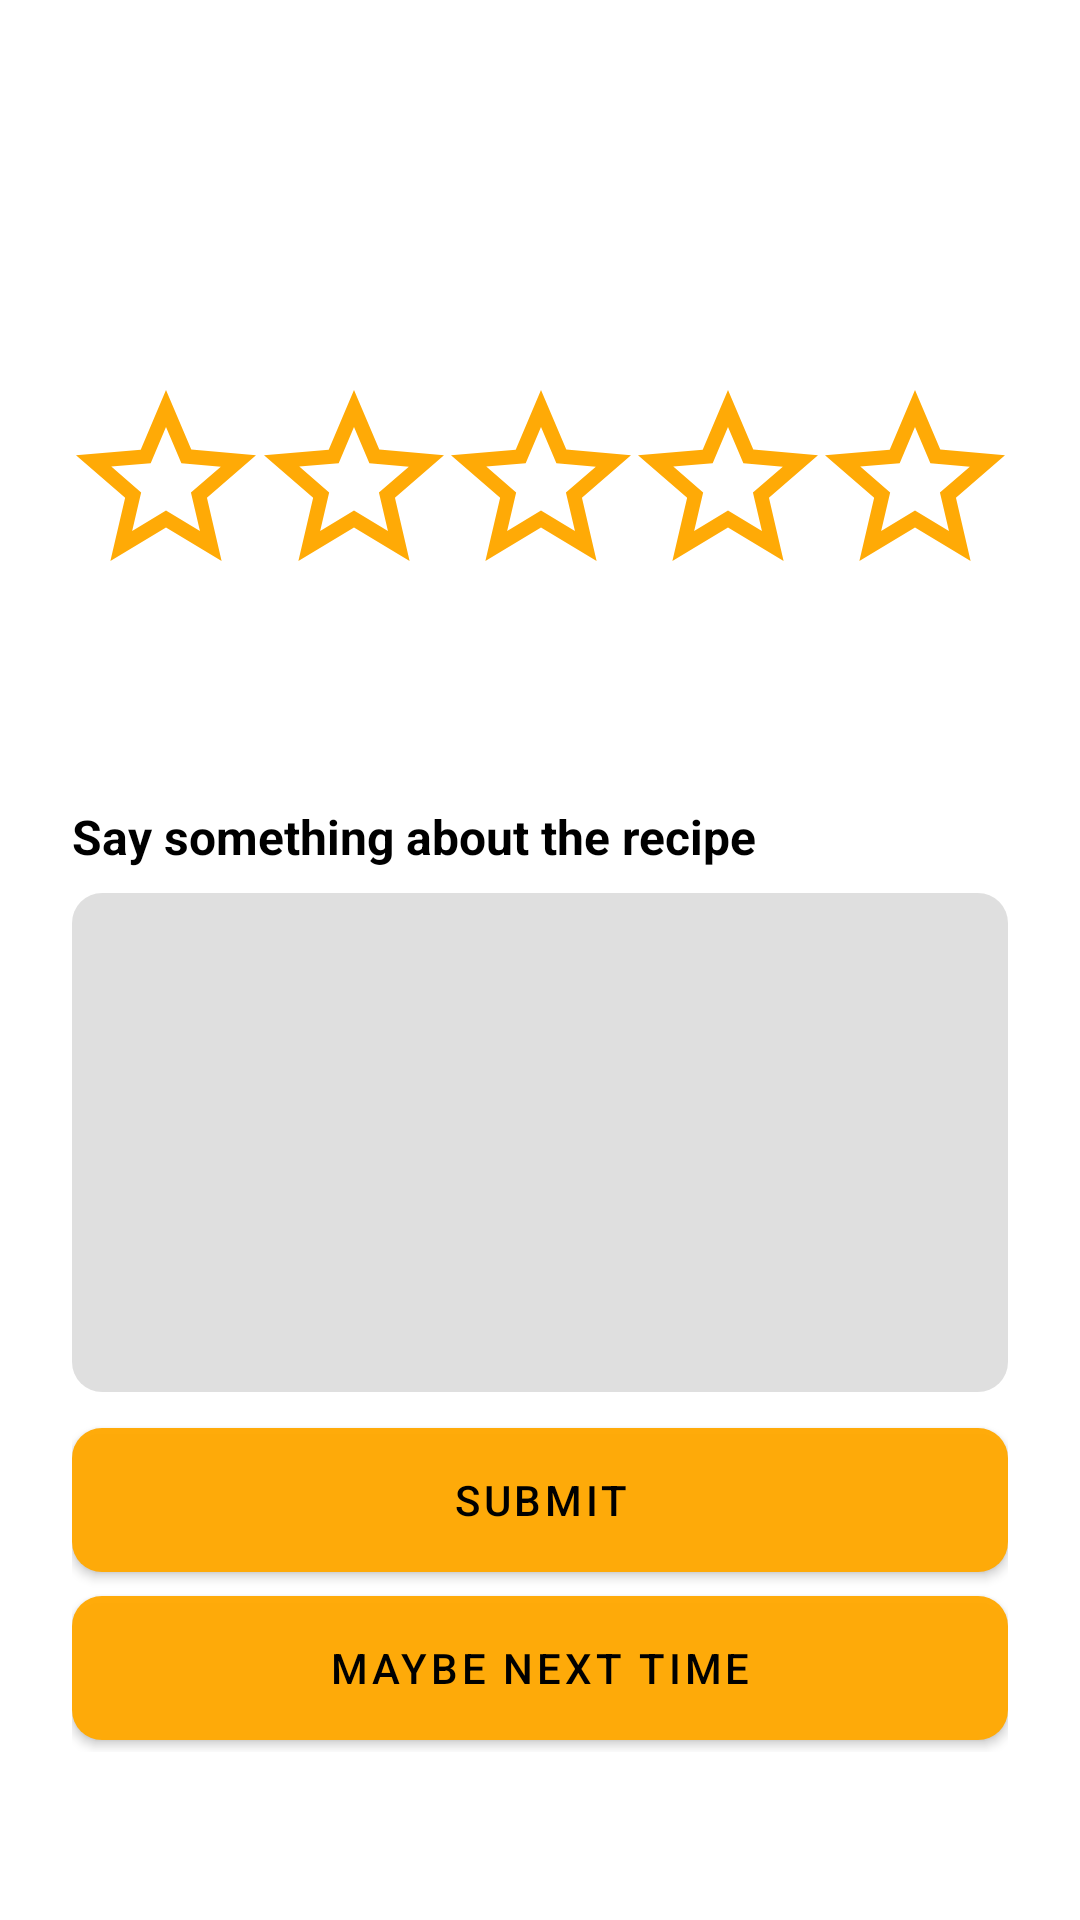

Named icons in this screenshot (1080px×1920px) and their bounding boxes, bbox=[x1, y1, x2, y2]:
star: bbox=[76, 390, 256, 561], bbox=[264, 390, 444, 561], bbox=[451, 390, 631, 561], bbox=[638, 390, 818, 561], bbox=[825, 390, 1005, 561]
